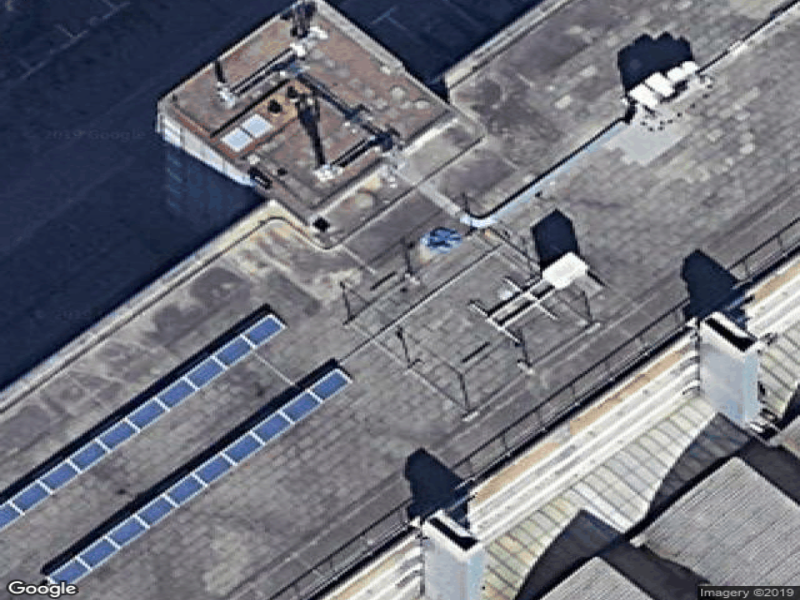pv: (1, 309, 347, 593)
